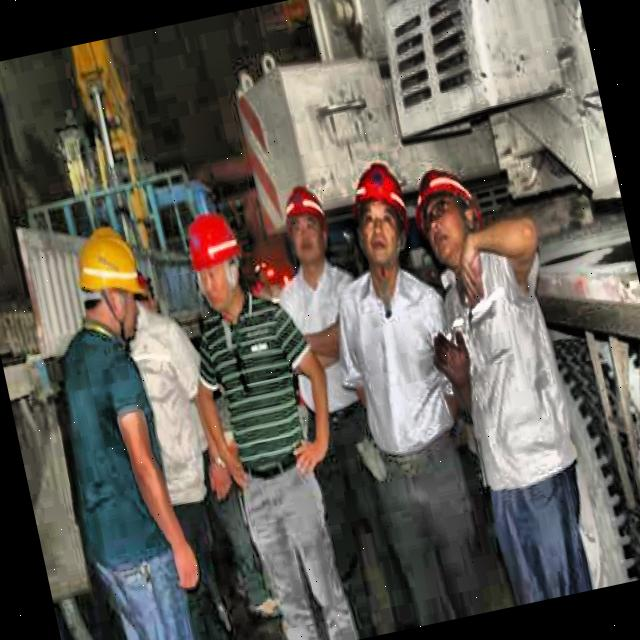helmet: (68, 219, 158, 344), (175, 200, 258, 322), (342, 155, 420, 276), (407, 158, 489, 272), (275, 178, 338, 272)
